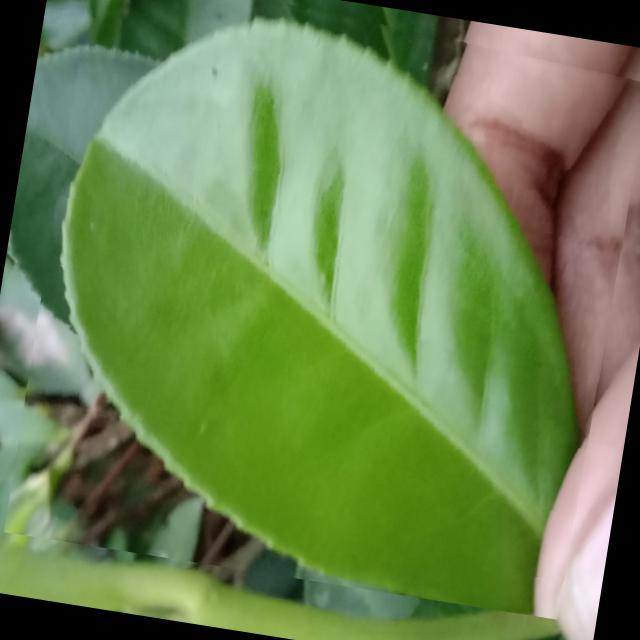Category C(4-7 days): (4, 0, 640, 620)
